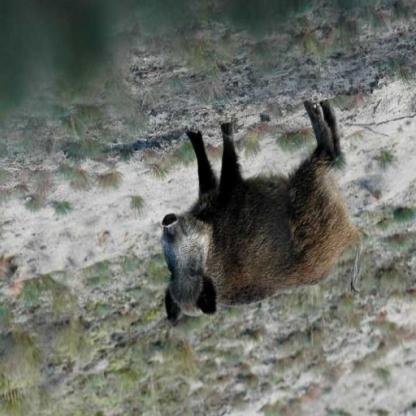boar: (122, 92, 408, 343)
